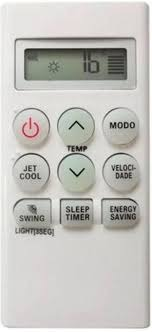remote control: (0, 5, 150, 328)
